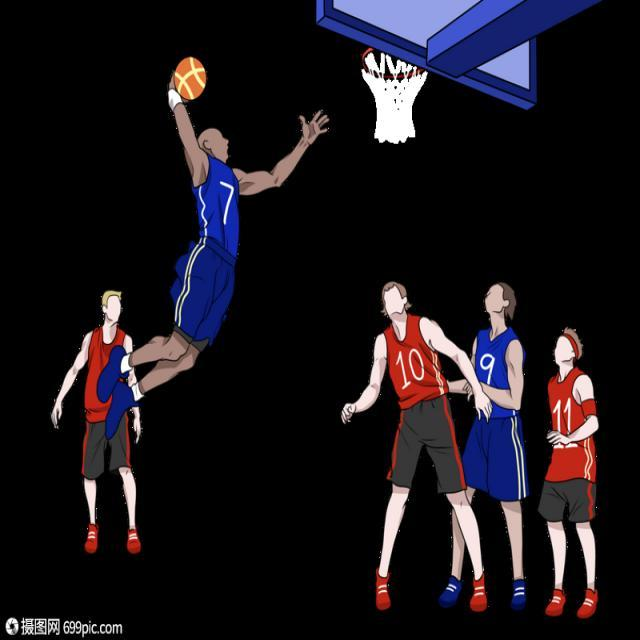rim: (170, 57, 208, 100)
